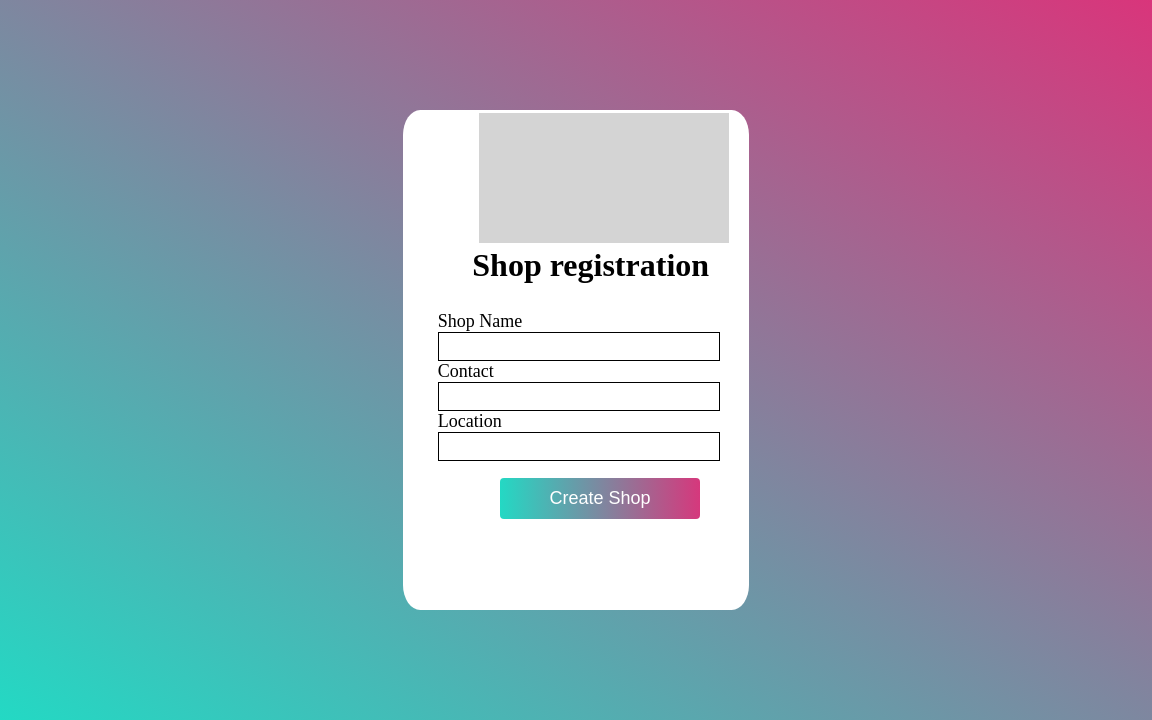
SellerForm Component › displays error when the contact number is too short
Type "Test Shop" into the field labelled "Shop Name".
click(579, 346); type("Test Shop")  # box [438,332,720,361]
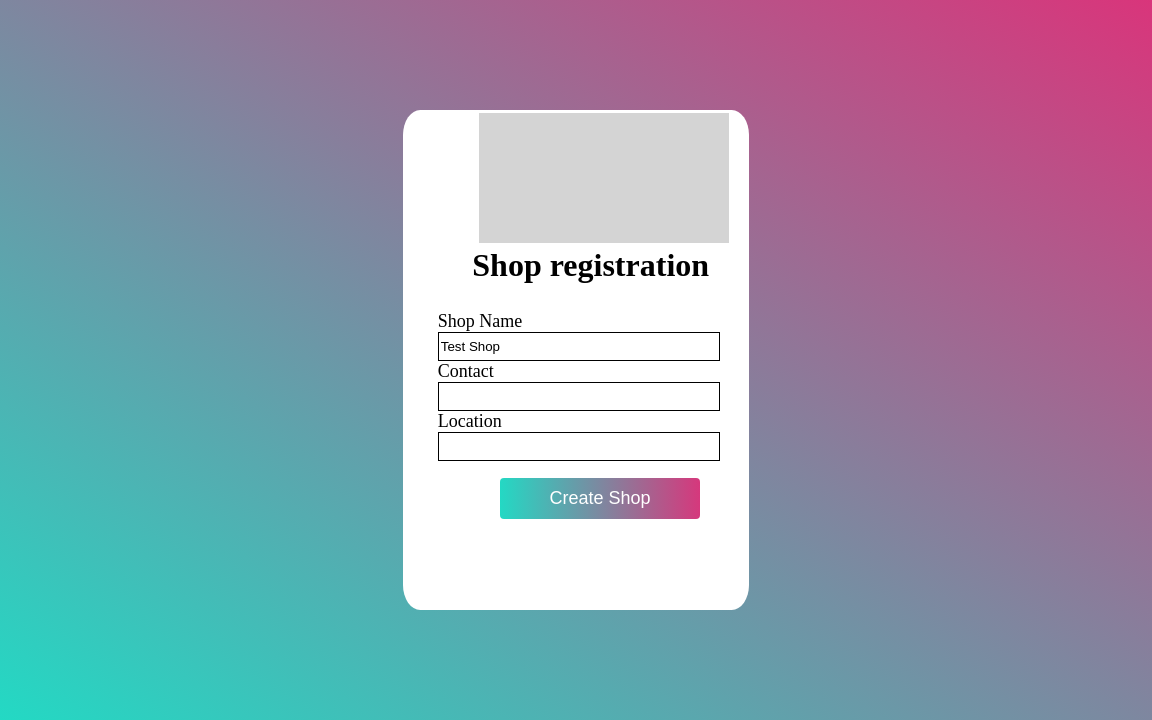
Type "1234567" into the field labelled "Contact".
click(579, 396); type("1234567")  # box [438,382,720,411]
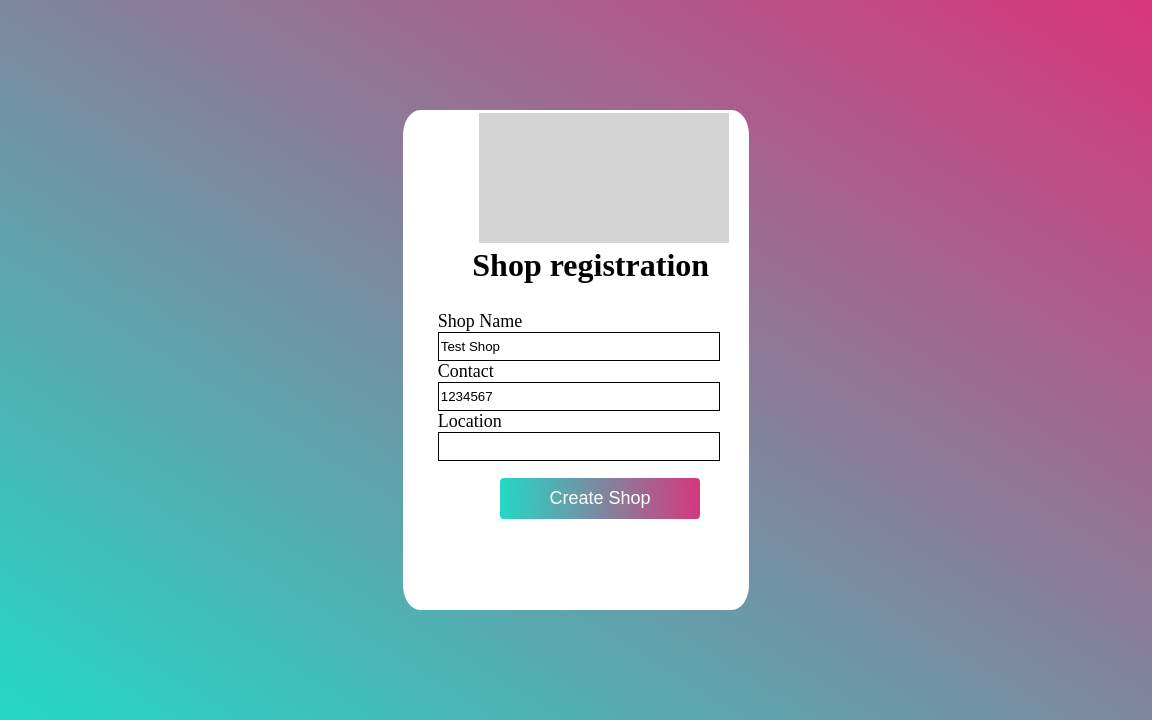
Type "Test Location" into the field labelled "Location".
click(579, 446); type("Test Location")  # box [438,432,720,461]
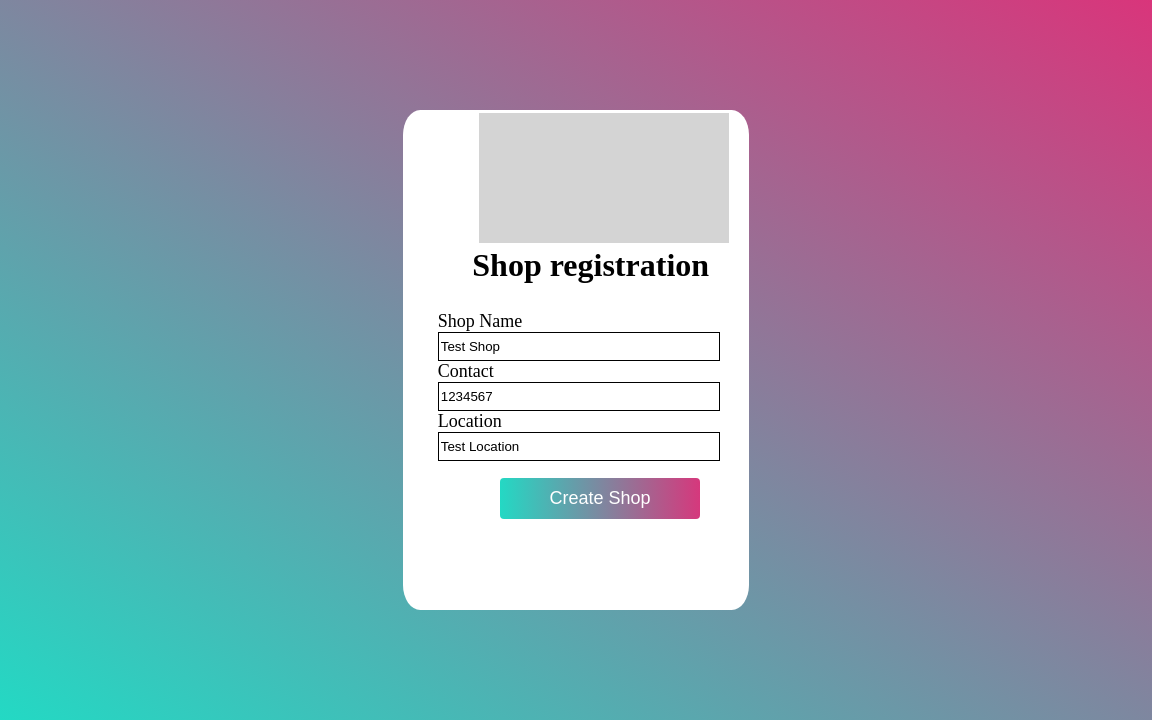
Click the button with test id "signUpButton".
click(600, 499)  # box [500,478,700,519]
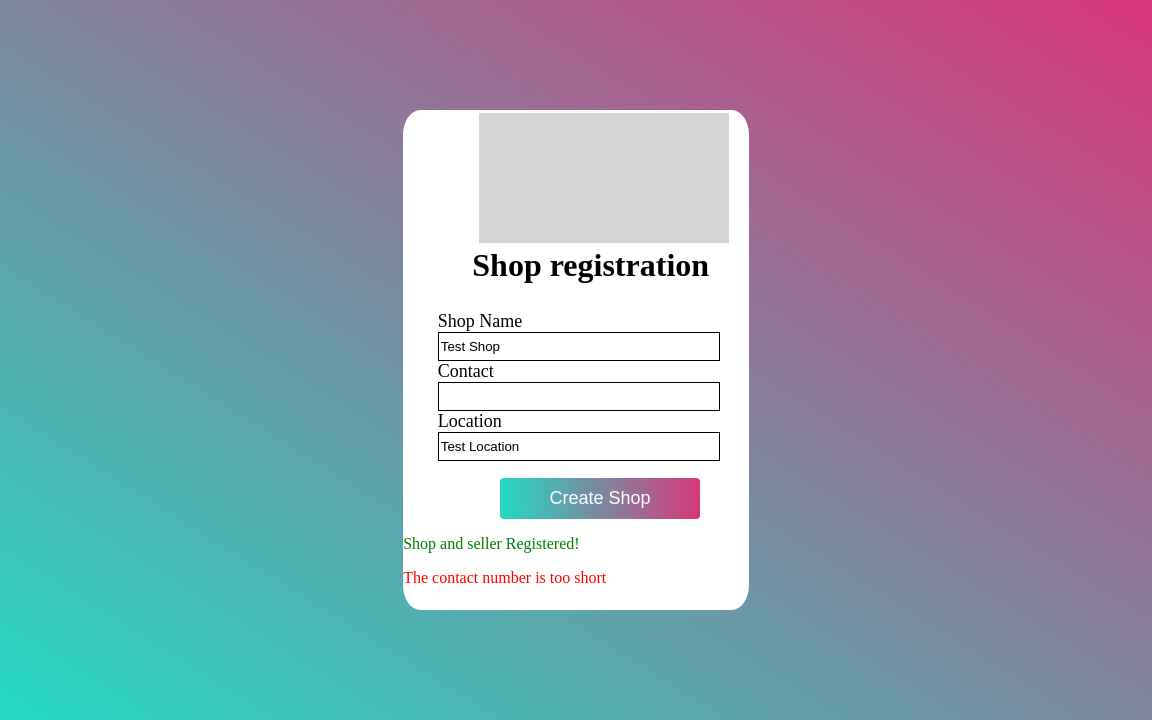
Expected: the text "The contact number is too short" is shown, [403,569,606,586]
